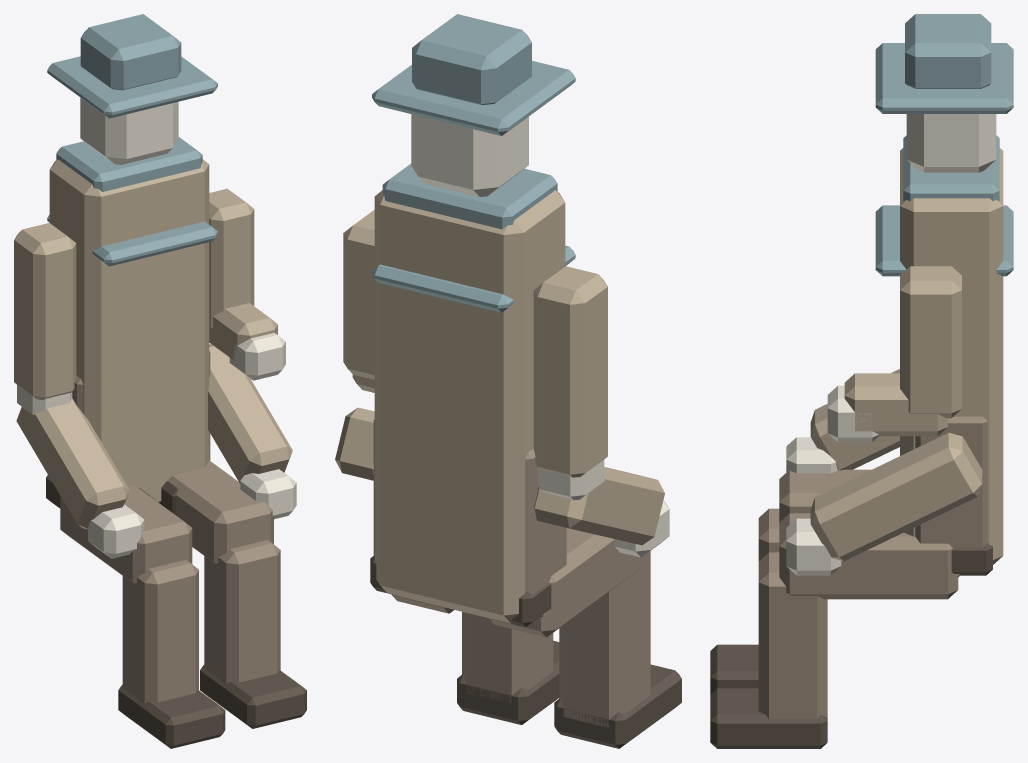
The model's file is ferry-passenger.glb.
The picture shows the model from 3 angles, left to right: view 1: azimuth 30°, elevation 25°; view 2: azimuth 150°, elevation 25°; view 3: azimuth 270°, elevation 25°; orthographic projection. The views are drawn at different scales.
Visible parts, largest first — view 1: passenger_coat.001, passenger_coat, passenger_arm_free, passenger_shin.001, passenger_shin, passenger_arm, passenger_arm.001, passenger_thigh.001, passenger_hat_crown.001, passenger_arm_carry, passenger_thigh, passenger_hat_brim.001 (+10 smaller); view 2: passenger_coat.001, passenger_coat, passenger_arm_free, passenger_shin, passenger_hat_crown.001, passenger_head.001, passenger_hat_brim.001, passenger_arm, passenger_shin.001, passenger_thigh, passenger_collar.001, passenger_arm_carry (+8 smaller); view 3: passenger_arm.001, passenger_coat.001, passenger_shin.001, passenger_arm_carry, passenger_thigh.001, passenger_hat_crown.001, passenger_hat_brim.001, passenger_head.001, passenger_shoe.001, passenger_coat, passenger_leg.001, passenger_forearm_carry (+10 smaller).
Part boxes in pixels (box(x1,y1,x2,y2)): passenger_coat.001: box(49, 159, 209, 367); passenger_coat: box(76, 313, 209, 502); passenger_arm_free: box(14, 223, 76, 399); passenger_shin.001: box(204, 540, 280, 683); passenger_shin: box(122, 560, 198, 703); passenger_arm: box(16, 398, 129, 529); passenger_arm.001: box(208, 344, 292, 483); passenger_thigh.001: box(168, 460, 273, 564); passenger_hat_crown.001: box(80, 14, 181, 90); passenger_arm_carry: box(209, 188, 254, 328); passenger_thigh: box(60, 485, 192, 584); passenger_hat_brim.001: box(47, 56, 217, 118); passenger_coat.001: box(374, 190, 565, 438); passenger_coat: box(374, 373, 533, 623); passenger_arm_free: box(533, 266, 607, 477); passenger_shin: box(559, 551, 650, 727); passenger_hat_crown.001: box(412, 14, 531, 104); passenger_head.001: box(411, 114, 528, 196); passenger_hat_brim.001: box(372, 61, 575, 135); passenger_arm: box(534, 467, 664, 545); passenger_shin.001: box(462, 611, 553, 703); passenger_thigh: box(489, 528, 642, 637); passenger_collar.001: box(382, 163, 557, 229); passenger_arm_carry: box(343, 210, 374, 379); passenger_arm.001: box(810, 432, 982, 560); passenger_coat.001: box(900, 148, 1003, 374); passenger_shin.001: box(758, 552, 827, 719); passenger_arm_carry: box(900, 266, 961, 418); passenger_thigh.001: box(779, 513, 958, 599); passenger_hat_crown.001: box(905, 14, 991, 88); passenger_hat_brim.001: box(875, 43, 1013, 113); passenger_head.001: box(906, 114, 996, 172); passenger_shoe.001: box(710, 688, 827, 748); passenger_coat: box(900, 369, 1003, 564); passenger_leg.001: box(915, 416, 987, 548); passenger_forearm_carry: box(844, 373, 947, 436).
Bounding box in the file's own units: 0.78 × 2.19 × 0.88.
